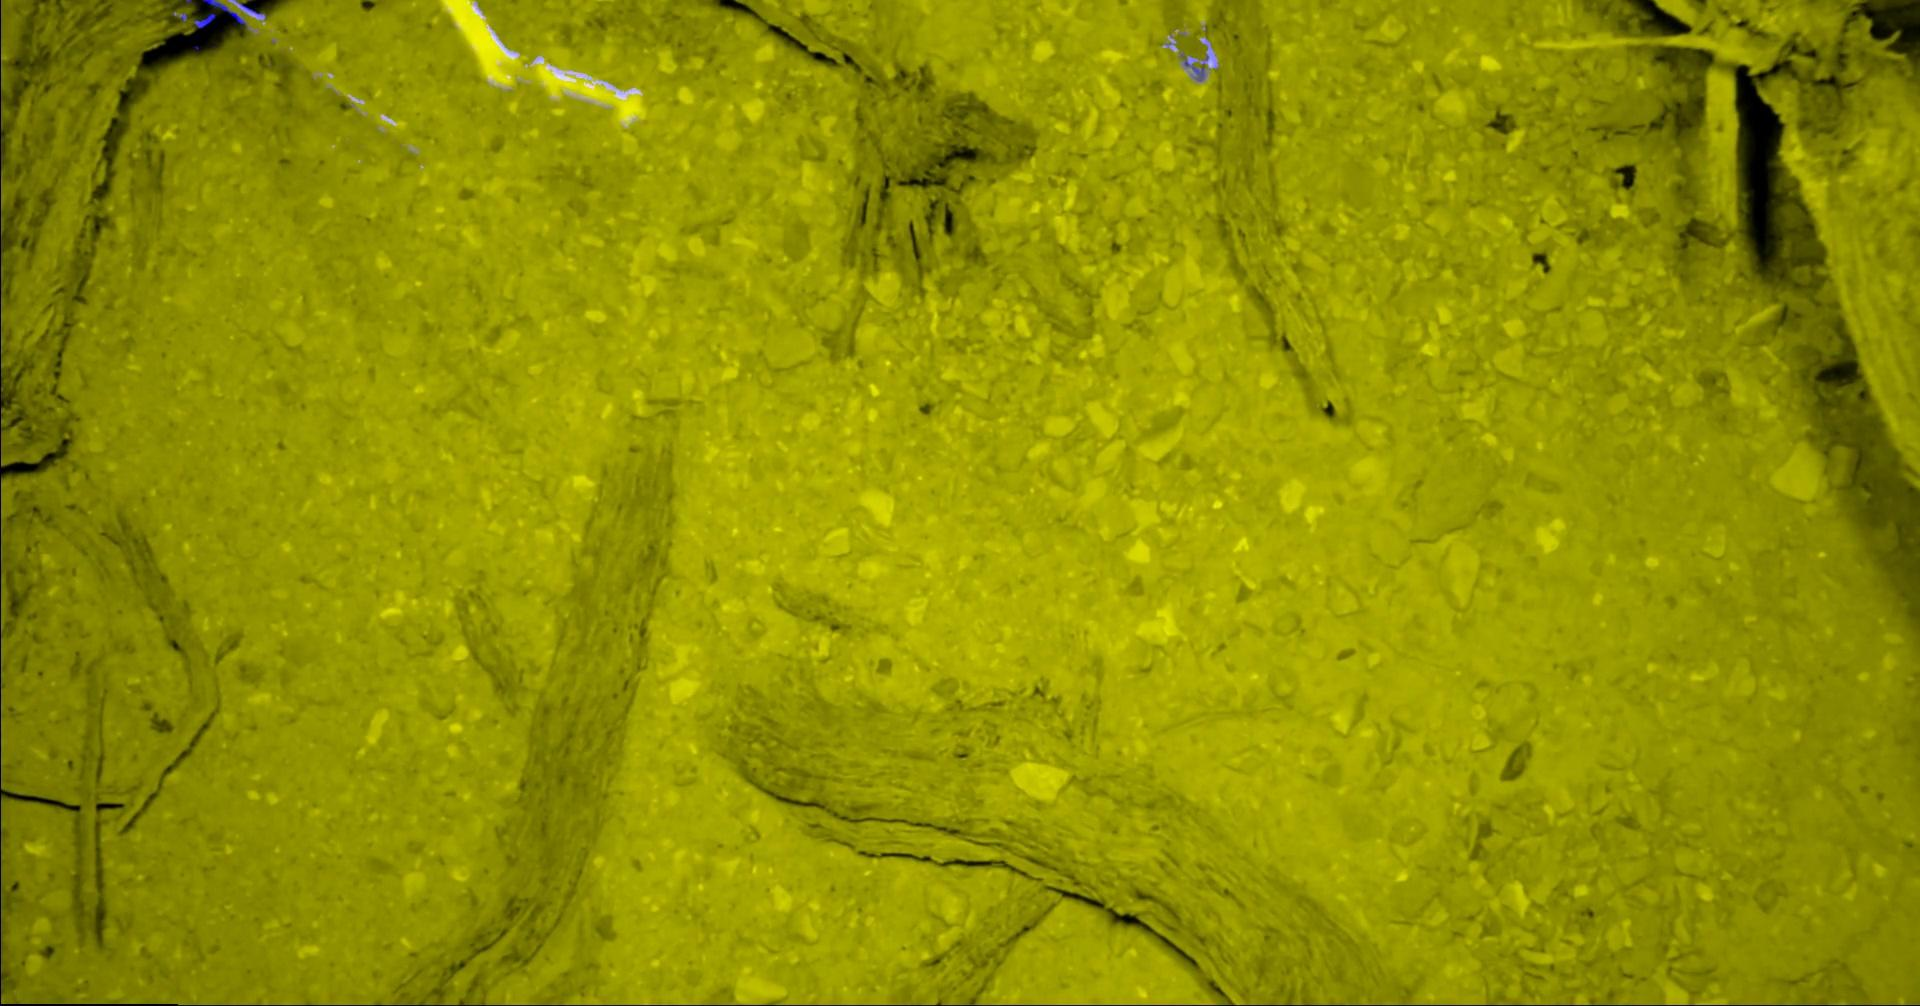ant: (202, 0, 248, 27), (192, 11, 215, 28), (1191, 62, 1204, 80), (0, 871, 1, 974)
